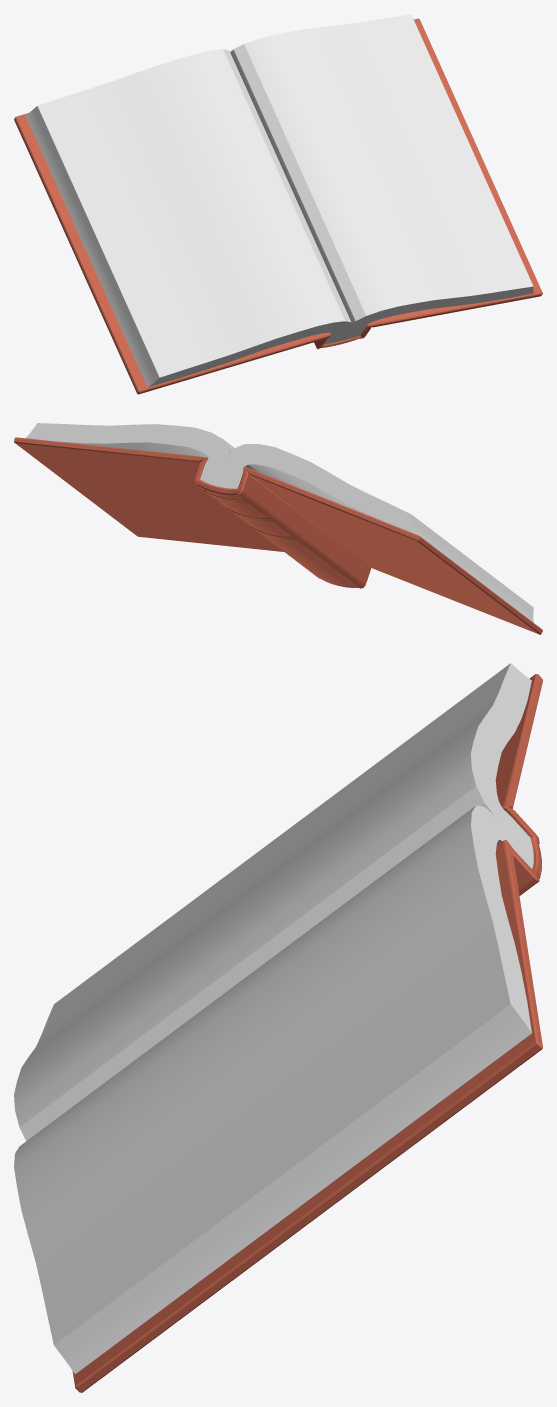
Rendered from book.fbx.
The picture shows the model from 3 angles, top to bottom: view 1: azimuth 30°, elevation 25°; view 2: azimuth 150°, elevation 25°; view 3: azimuth 270°, elevation 25°; orthographic projection. The views are drawn at different scales.
Visible parts, largest first — view 1: book content, book cover and side; view 2: book cover and side, book content; view 3: book content, book cover and side.
Boxes of the visible parts, box(x1,y1,x2,y2) form: book content: box(37, 14, 533, 377); book cover and side: box(14, 18, 542, 394); book cover and side: box(14, 423, 542, 634); book content: box(27, 438, 412, 532); book content: box(14, 663, 510, 1344); book cover and side: box(54, 663, 542, 1392).
Bounding box in the file's own units: 125 × 66.42 × 75.89.
4 materials, 2 textured.
